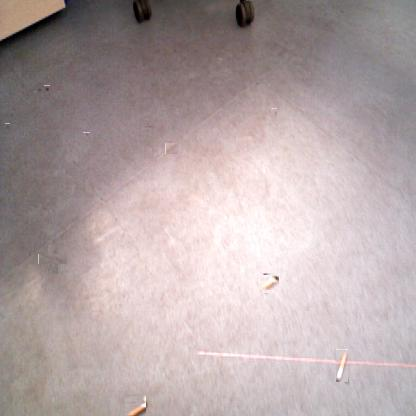dirty: (124, 394, 146, 416), (336, 349, 348, 382), (261, 274, 278, 292)
mark: (43, 250, 63, 269), (165, 142, 178, 154), (143, 123, 153, 131), (272, 108, 278, 117), (9, 113, 16, 120), (83, 132, 90, 138), (4, 123, 10, 130), (44, 85, 50, 92), (37, 86, 43, 92)
